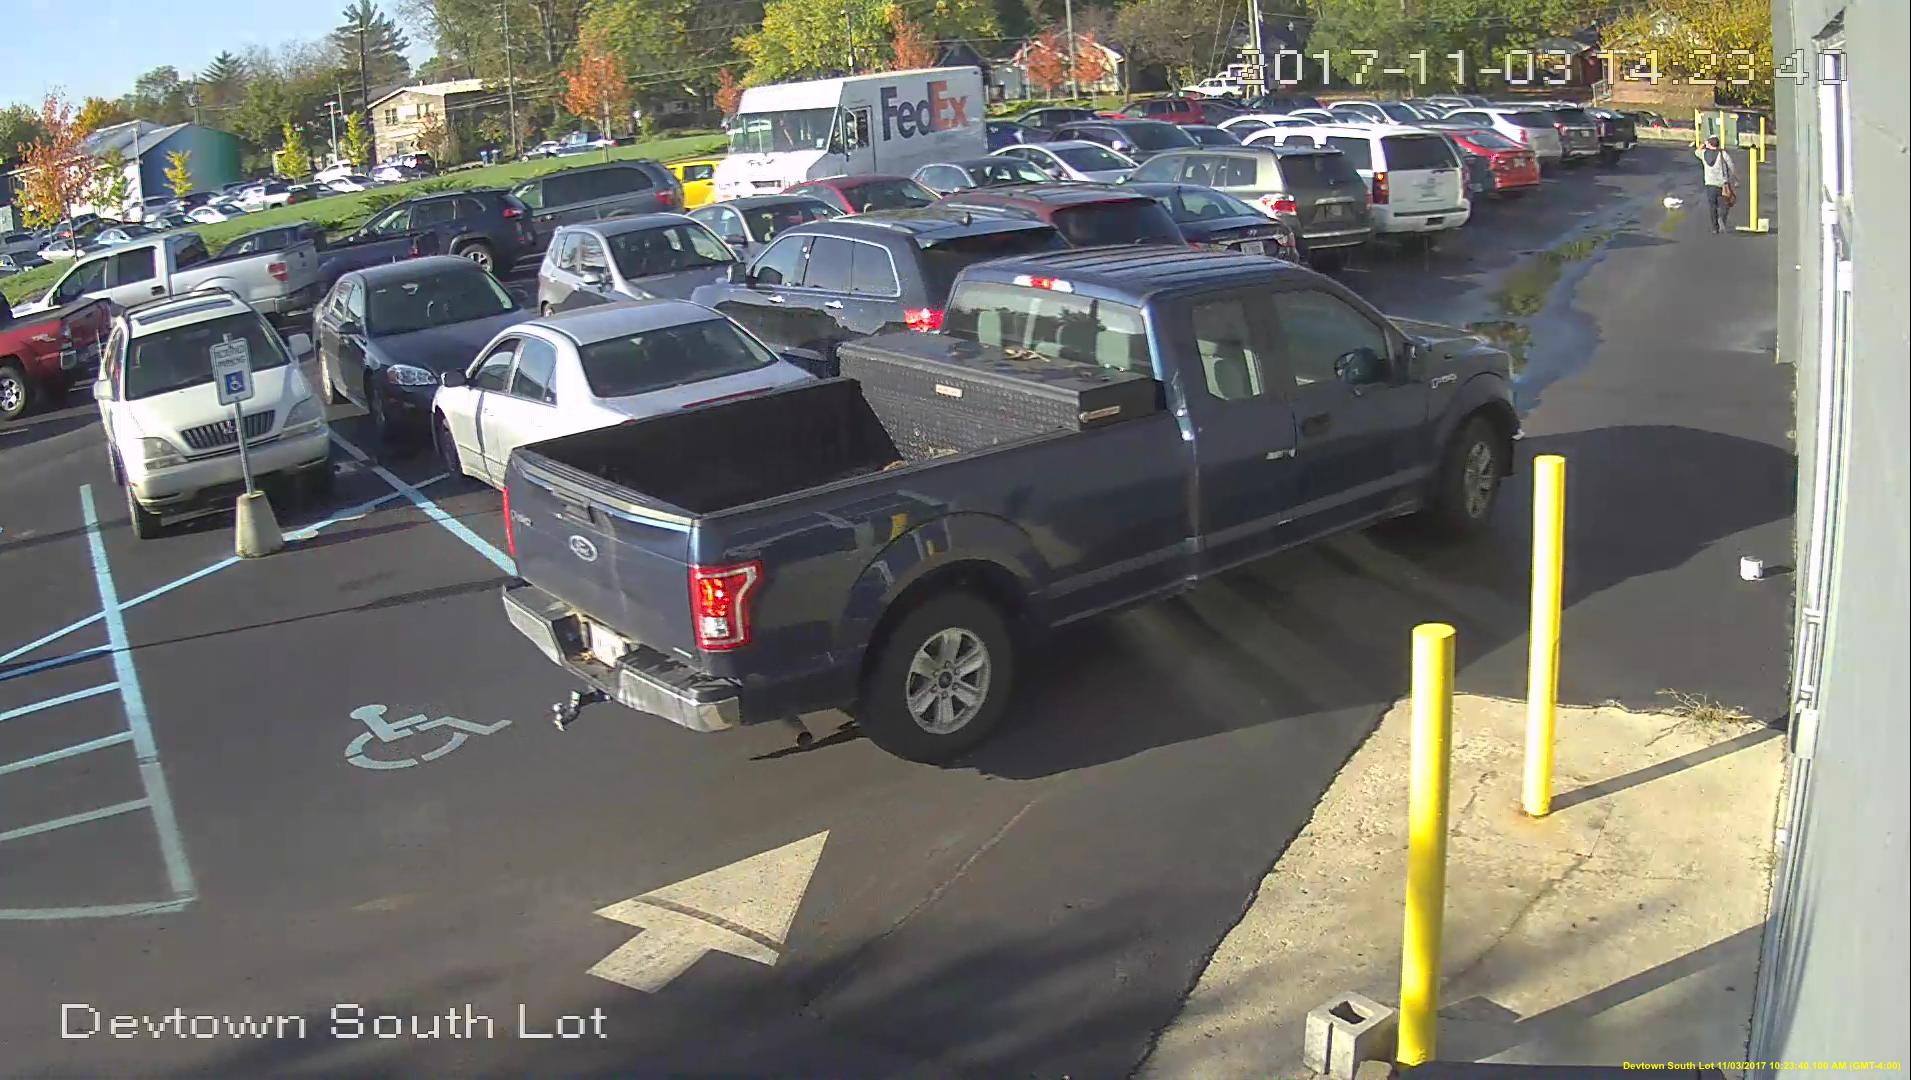fedex_truck: (702, 60, 992, 211)
